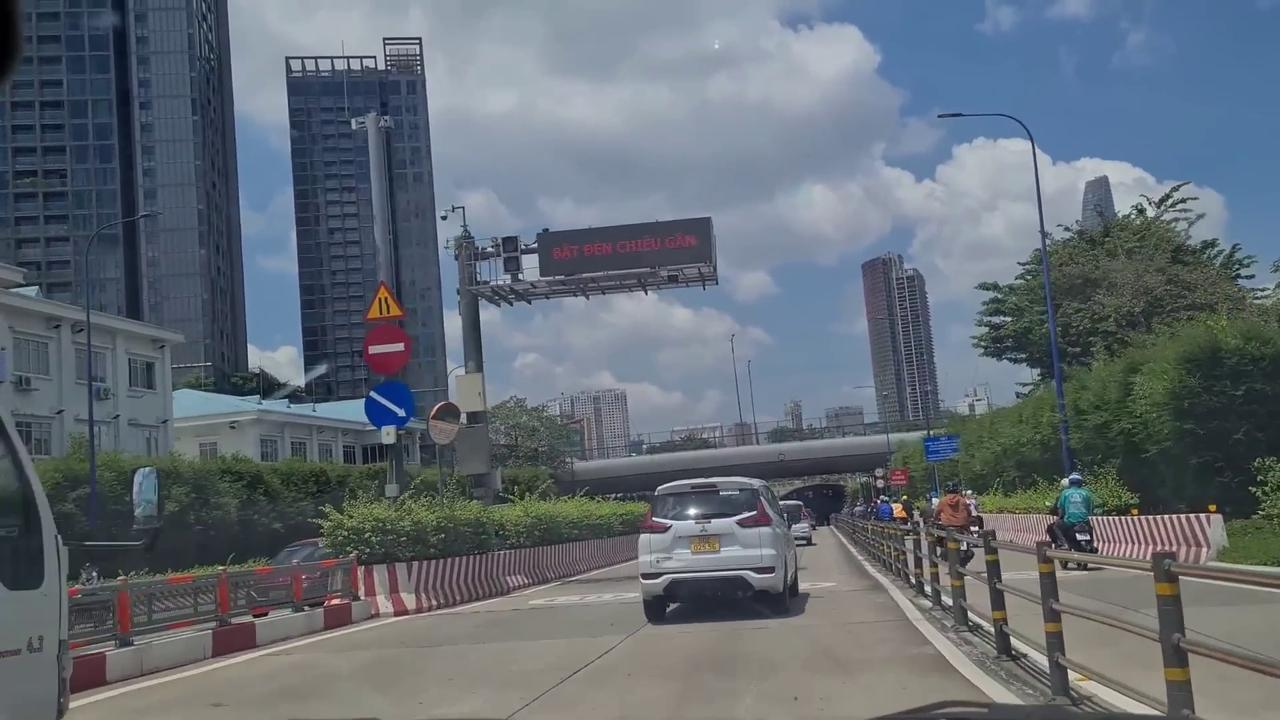Cấm đi ngược chiều: (361, 323, 413, 376)
Hướng phải đi vòng sang phải: (364, 378, 415, 431)
Đuờng hẹp: (362, 280, 406, 321)
